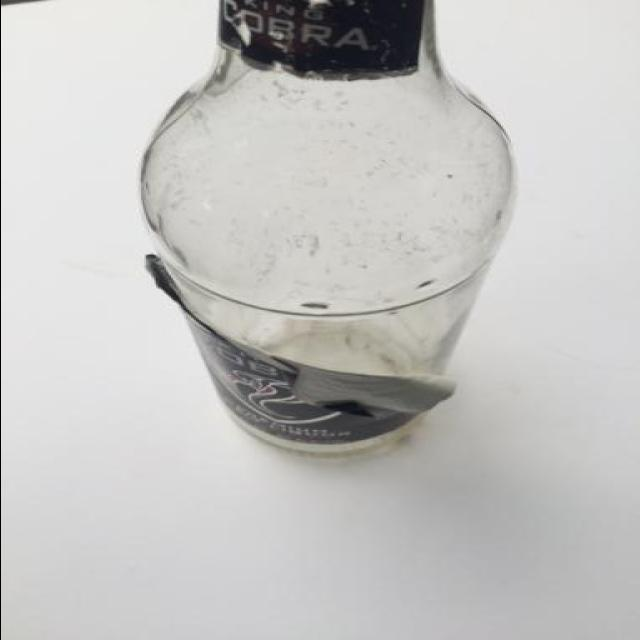litter: (135, 2, 517, 464)
